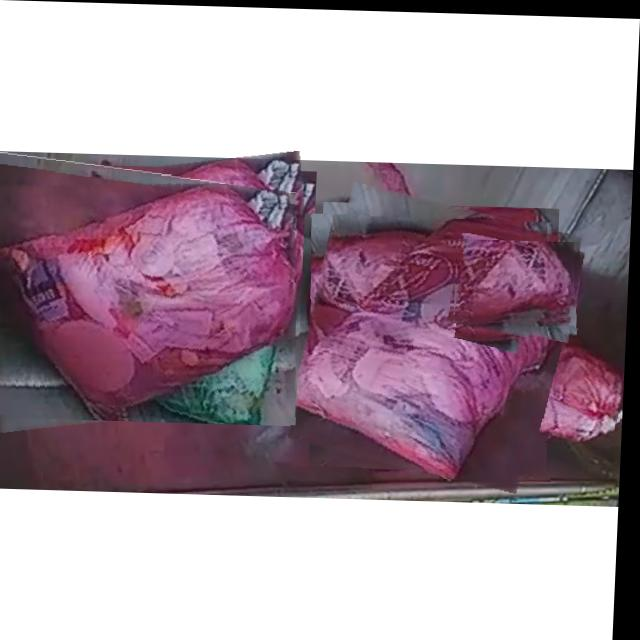other_trashbag: (0, 175, 300, 420), (301, 216, 556, 476), (533, 323, 625, 438), (458, 238, 579, 318)
